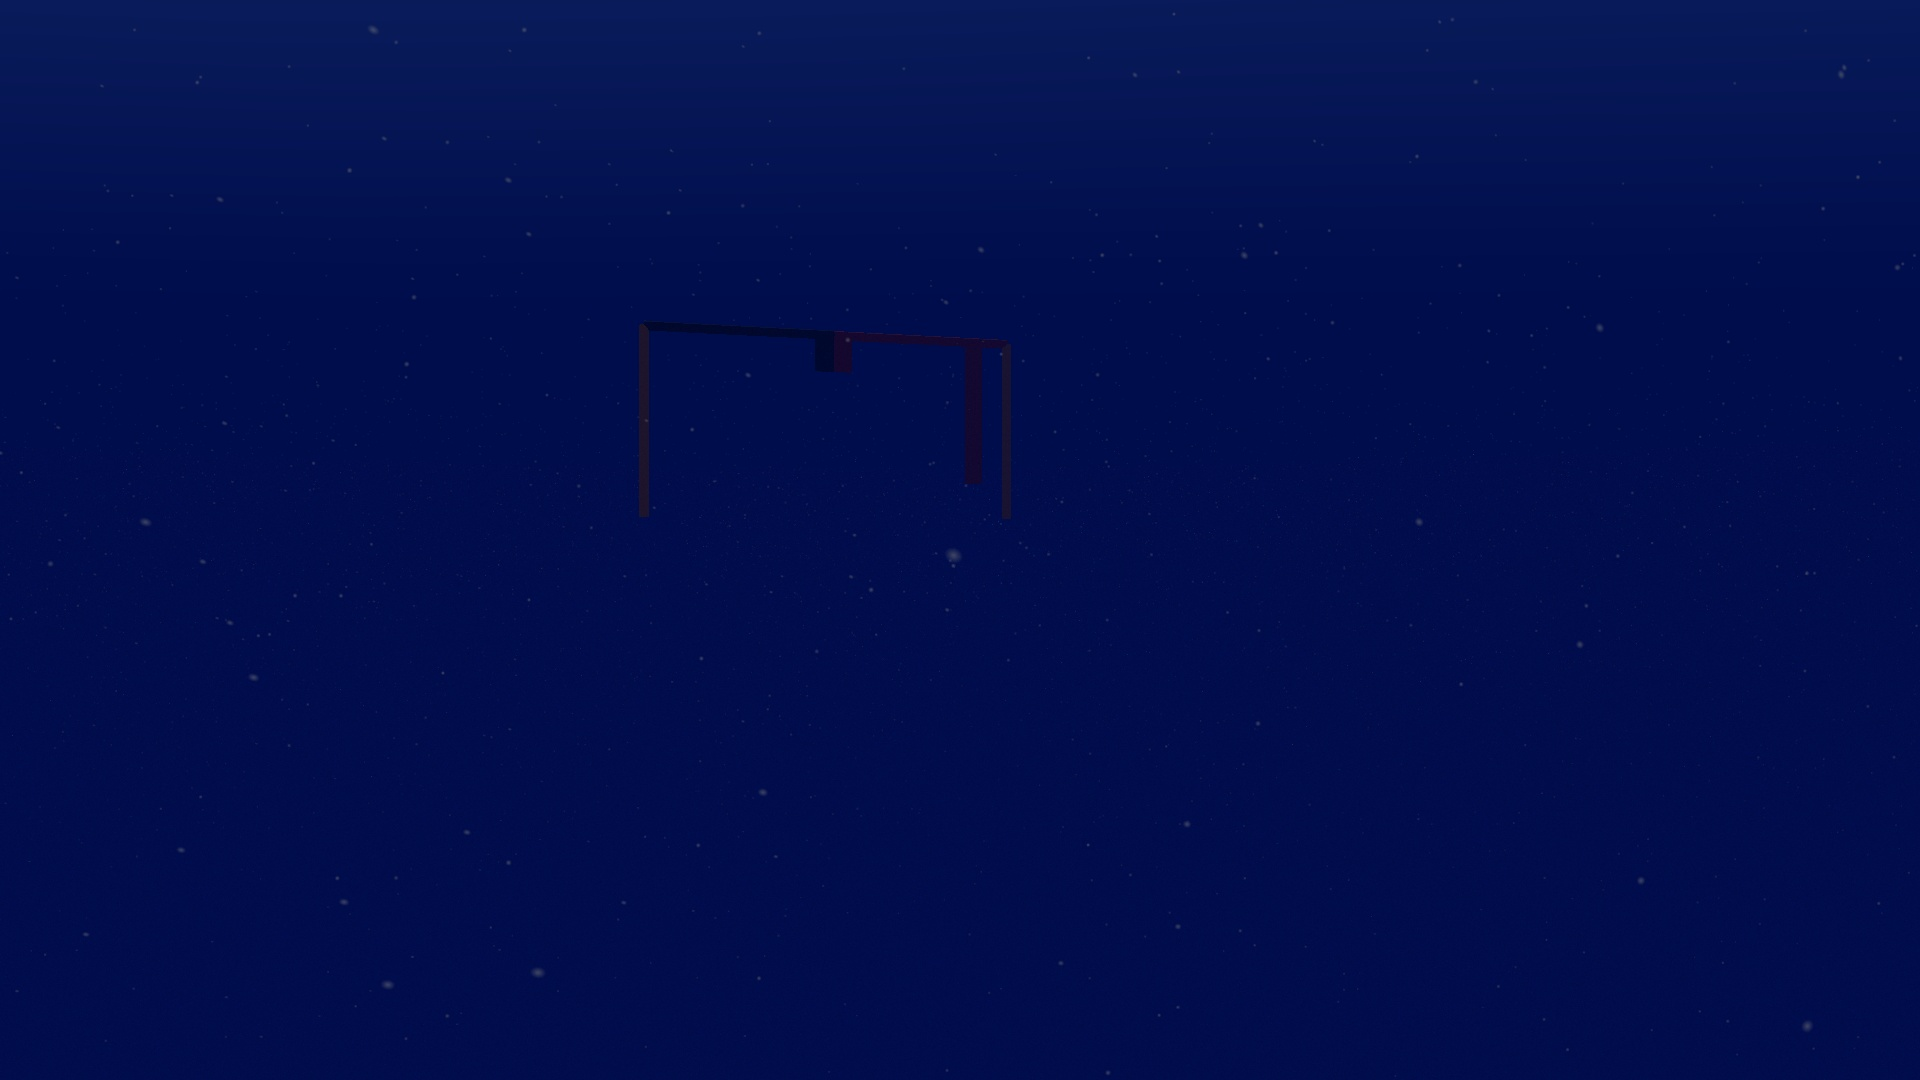Gate: (626, 314, 1022, 533)
